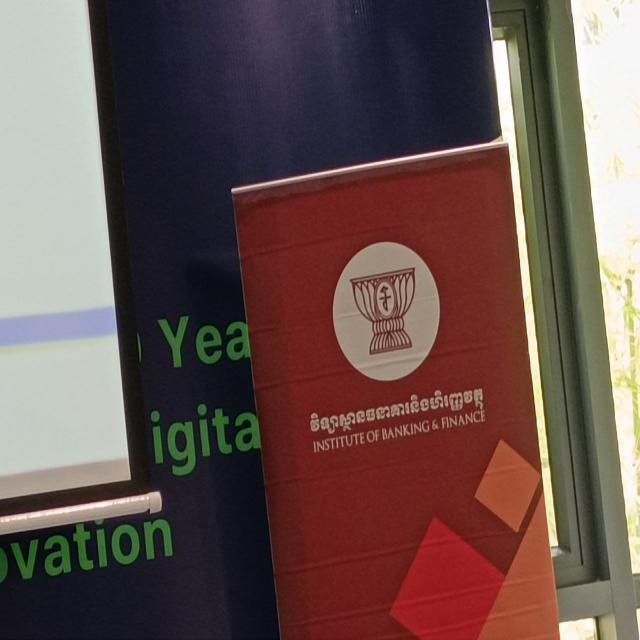Yolov11kh: (305, 381, 488, 440)
